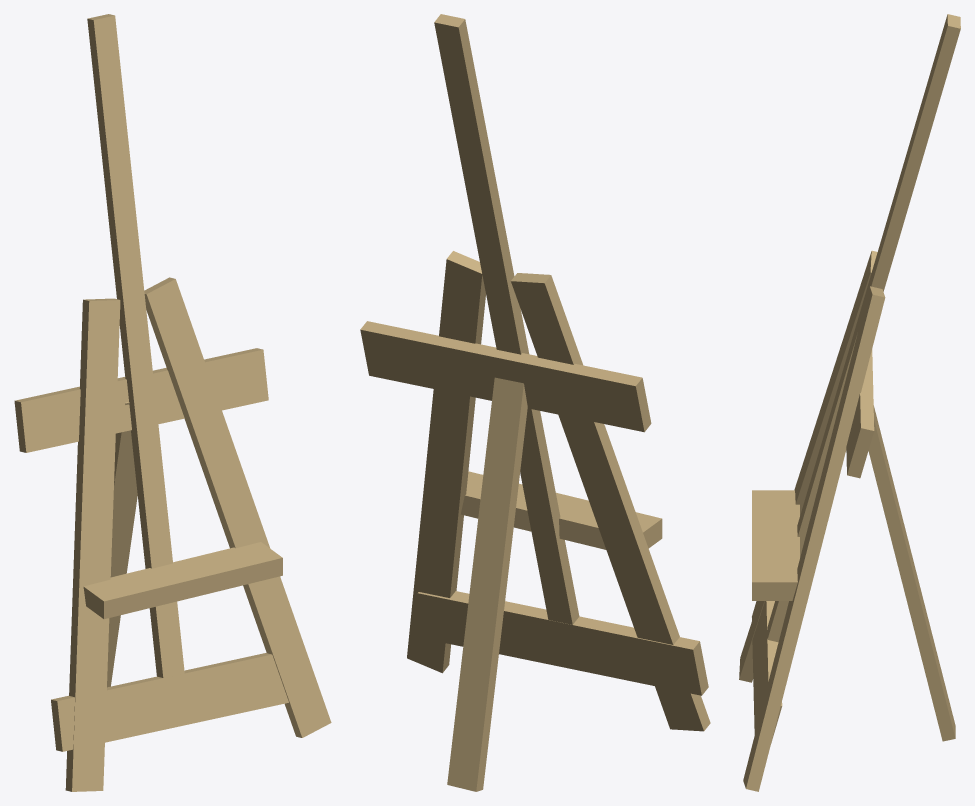
Rendered from atoll_Easel.fbx.
3 views of the same model, side by side, from view 1: azimuth 30°, elevation 25°; view 2: azimuth 150°, elevation 25°; view 3: azimuth 270°, elevation 25° (orthographic). The views are drawn at different scales.
Parts seen in each view (by area): view 1: pasted__pCube4, pasted__pCube1, pasted__pCube2, pasted__pCube5, pasted__pCube3, pasted__pCube7, pasted__pCube6; view 2: pasted__pCube4, pasted__pCube1, pasted__pCube6, pasted__pCube3, pasted__pCube2, pasted__pCube5, pasted__pCube7; view 3: pasted__pCube2, pasted__pCube4, pasted__pCube6, pasted__pCube7, pasted__pCube1, pasted__pCube3, pasted__pCube5.
Boxes of the visible parts, bbox=[...] form: pasted__pCube4: bbox=[87, 14, 184, 677]; pasted__pCube1: bbox=[65, 298, 120, 791]; pasted__pCube2: bbox=[144, 277, 331, 737]; pasted__pCube5: bbox=[51, 653, 288, 751]; pasted__pCube3: bbox=[14, 348, 268, 452]; pasted__pCube7: bbox=[83, 542, 282, 619]; pasted__pCube6: bbox=[107, 402, 137, 687]; pasted__pCube4: bbox=[434, 14, 579, 624]; pasted__pCube1: bbox=[511, 273, 710, 731]; pasted__pCube6: bbox=[447, 377, 527, 791]; pasted__pCube3: bbox=[360, 321, 651, 432]; pasted__pCube2: bbox=[407, 251, 485, 673]; pasted__pCube5: bbox=[417, 591, 708, 695]; pasted__pCube7: bbox=[460, 471, 662, 549]; pasted__pCube2: bbox=[743, 286, 885, 791]; pasted__pCube4: bbox=[767, 14, 960, 642]; pasted__pCube6: bbox=[868, 405, 955, 741]; pasted__pCube7: bbox=[752, 490, 799, 600]; pasted__pCube1: bbox=[739, 250, 877, 682]; pasted__pCube3: bbox=[846, 349, 874, 478]; pasted__pCube5: bbox=[752, 601, 782, 743].
Size of the model in its own units: 18.94 by 46.6 by 12.99.
